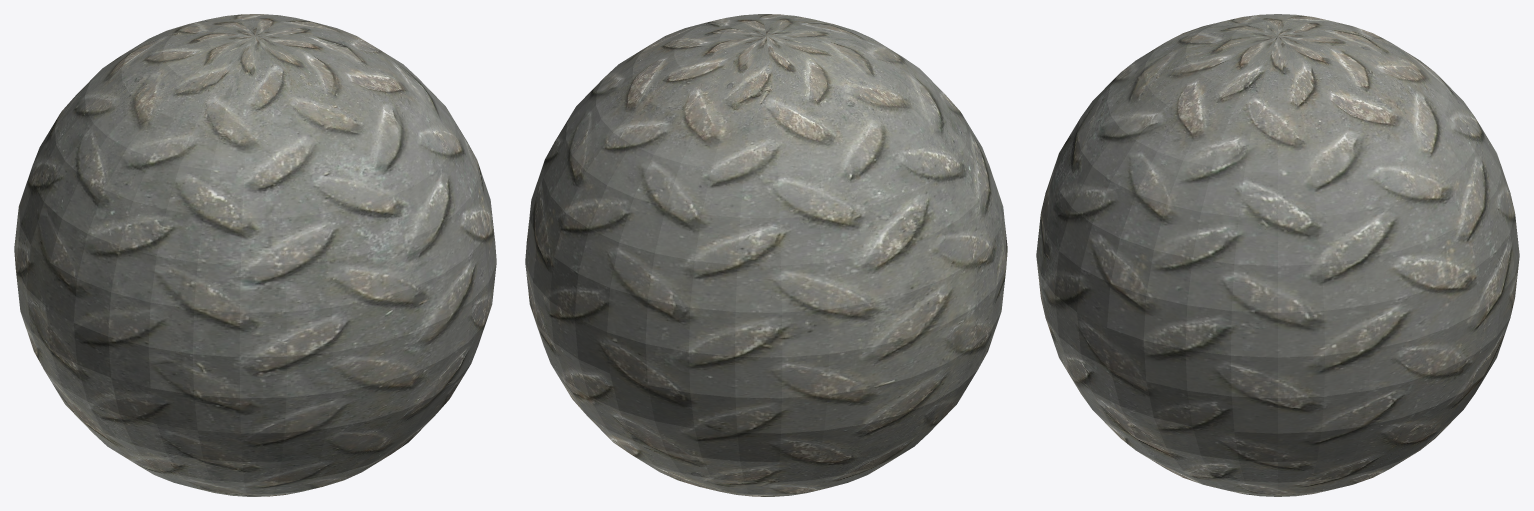
File: Ball_split.obj
The picture shows the model from 3 angles, left to right: view 1: azimuth 30°, elevation 25°; view 2: azimuth 150°, elevation 25°; view 3: azimuth 270°, elevation 25°; orthographic projection.
Parts seen in each view (by area): view 1: Sphere; view 2: Sphere; view 3: Sphere.
Boxes of the visible parts, left/top/right/bottom form: Sphere: left=14, top=14, right=496, bottom=496; Sphere: left=525, top=14, right=1007, bottom=496; Sphere: left=1036, top=14, right=1519, bottom=496.
Size of the model in its own units: 2 by 2.01 by 2.
Materials: 1 (1 with a texture image).
